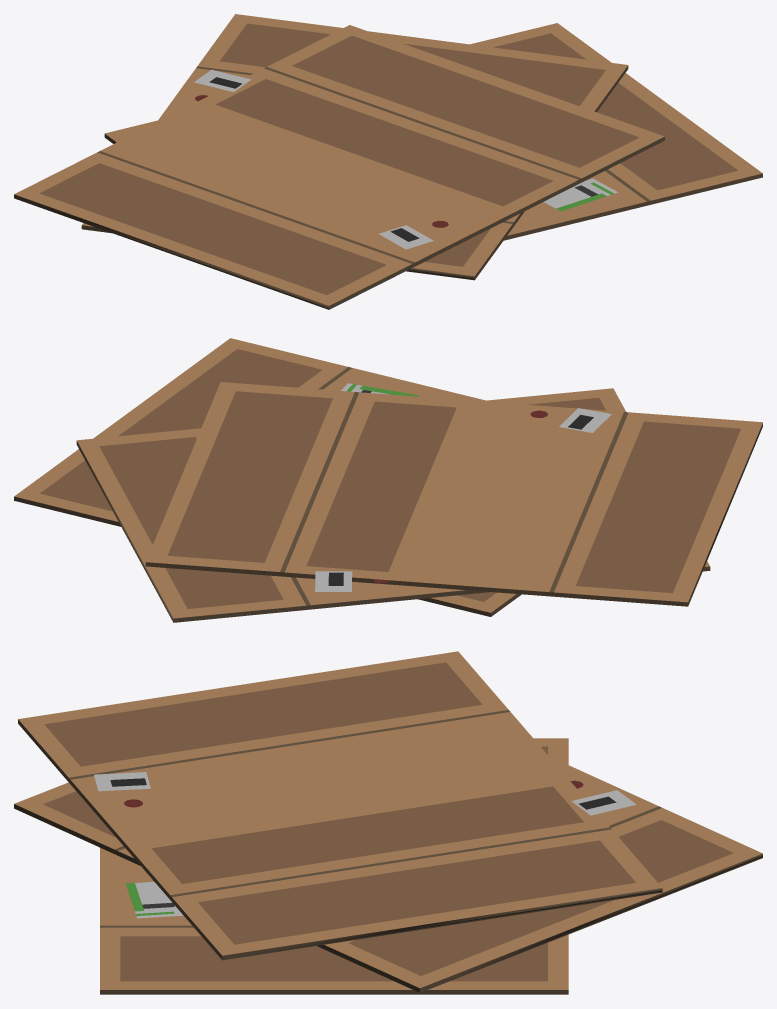
The model's file is SM_carton_flat_set.gltf.
3 renders of one model, top to bottom at view 1: azimuth 30°, elevation 25°; view 2: azimuth 150°, elevation 25°; view 3: azimuth 270°, elevation 25°, orthographic. The views are drawn at different scales.
Visible parts, largest first — view 1: SM_carton_flat_set; view 2: SM_carton_flat_set; view 3: SM_carton_flat_set.
Boxes of the visible parts, <box> form: SM_carton_flat_set: <box>14,14,762,309</box>; SM_carton_flat_set: <box>14,338,762,622</box>; SM_carton_flat_set: <box>14,651,762,994</box>.
Bounding box in the file's own units: 1.47 × 0.0414 × 1.4.
Materials: 1 (1 with a texture image).
